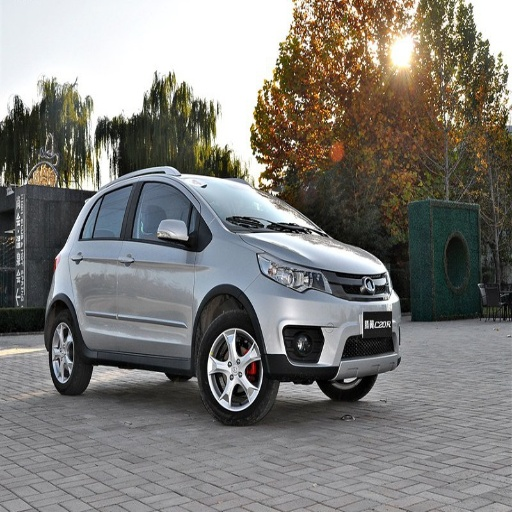front_bumper: (255, 270, 400, 384)
front_right_door: (117, 175, 200, 354)
front_right_light: (259, 254, 329, 293)
